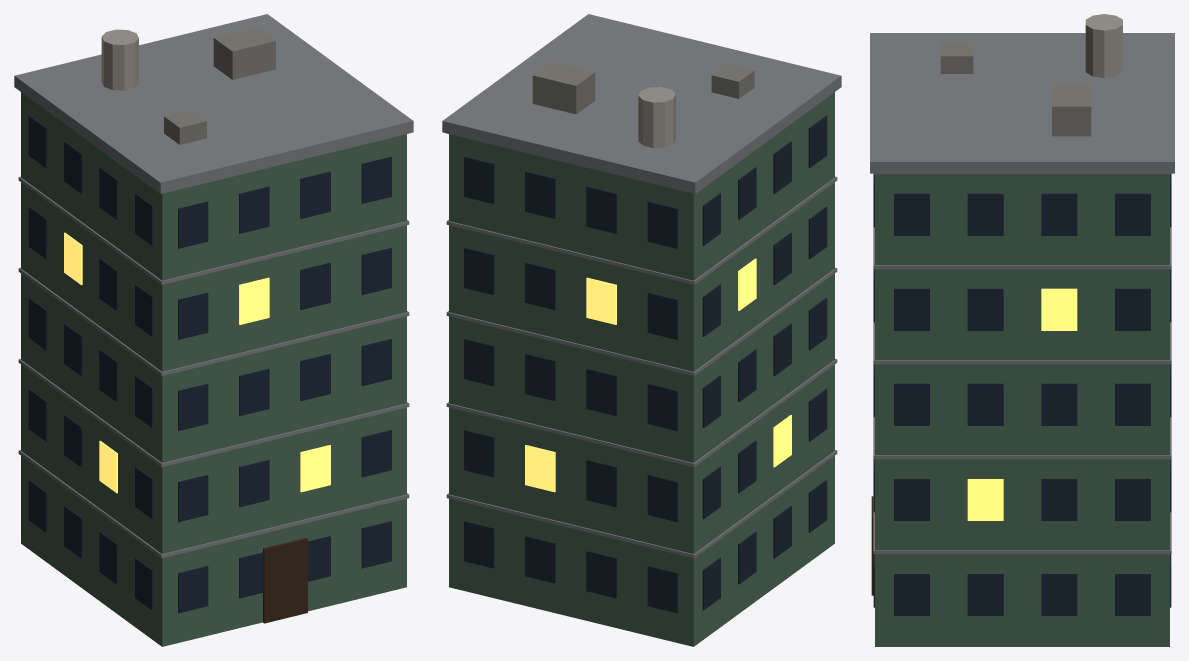
File: building_5.glb
3 views of the same model, side by side, from view 1: azimuth 30°, elevation 25°; view 2: azimuth 150°, elevation 25°; view 3: azimuth 270°, elevation 25° (orthographic). The views are drawn at different scales.
Visible parts, largest first — view 1: building_5; view 2: building_5; view 3: building_5.
Boxes of the visible parts, x1,y1,x2,y2 form: building_5: [14, 14, 413, 646]; building_5: [442, 14, 841, 646]; building_5: [870, 14, 1174, 646].
Bounding box in the file's own units: 9.3 × 18 × 9.3.
